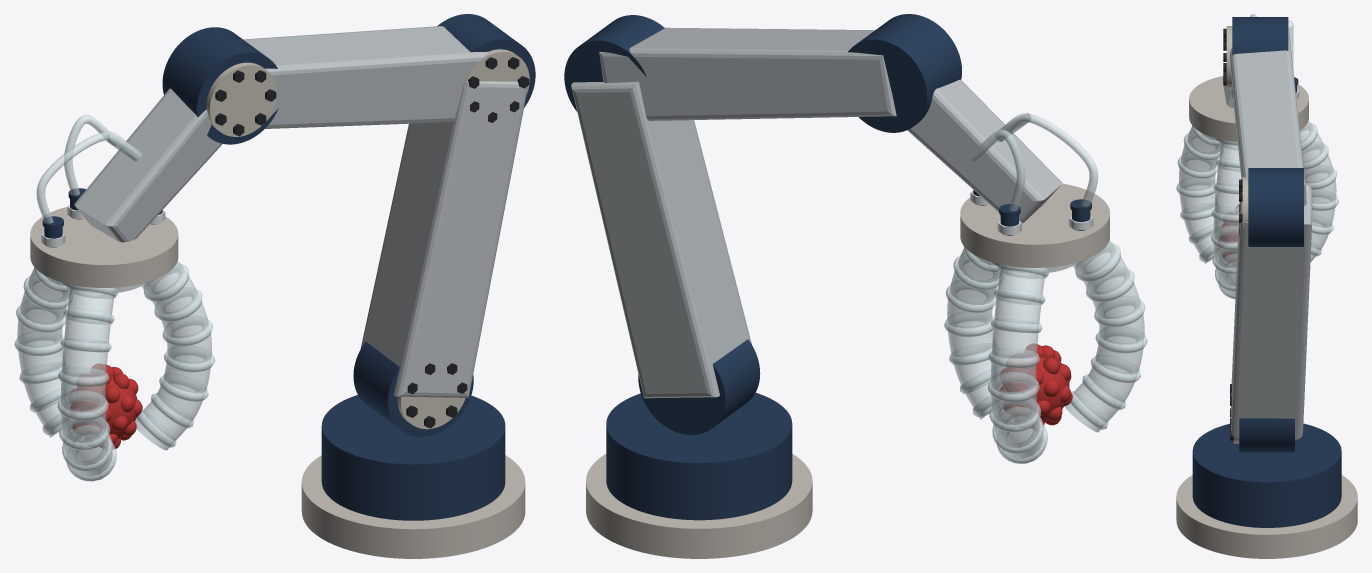
The model's file is robots-56.glb.
3 renders of one model, left to right at view 1: azimuth 30°, elevation 25°; view 2: azimuth 150°, elevation 25°; view 3: azimuth 270°, elevation 25°, orthographic. The views are drawn at different scales.
Parts seen in each view (by area): view 1: links, pedestal, fingers, joints, wrist, manifold, berry, hoses, couplers; view 2: links, pedestal, fingers, joints, wrist, manifold, berry, hoses, couplers; view 3: links, pedestal, fingers, joints, manifold, berry.
Boxes of the visible parts, box(x1,y1,x2,y2) form: links: box(243, 26, 527, 397); pedestal: box(301, 395, 525, 558); fingers: box(14, 261, 214, 481); joints: box(162, 14, 535, 436); wrist: box(74, 88, 222, 242); manifold: box(30, 207, 178, 292); berry: box(70, 363, 142, 449); hoses: box(36, 115, 141, 223); couplers: box(41, 188, 165, 247); links: box(571, 27, 896, 398); pedestal: box(586, 393, 812, 558); fingers: box(944, 240, 1147, 463); joints: box(564, 14, 961, 435); wrist: box(907, 79, 1062, 223); manifold: box(960, 183, 1109, 272); berry: box(1000, 343, 1072, 428); hoses: box(970, 113, 1098, 211); couplers: box(970, 190, 1093, 235); links: box(1230, 33, 1312, 439); pedestal: box(1176, 423, 1357, 558); fingers: box(1176, 121, 1338, 298); joints: box(1223, 17, 1303, 452); manifold: box(1189, 76, 1308, 145); berry: box(1220, 204, 1238, 257).
Size of the model in its own units: 2.1 by 2.07 by 0.8053.
